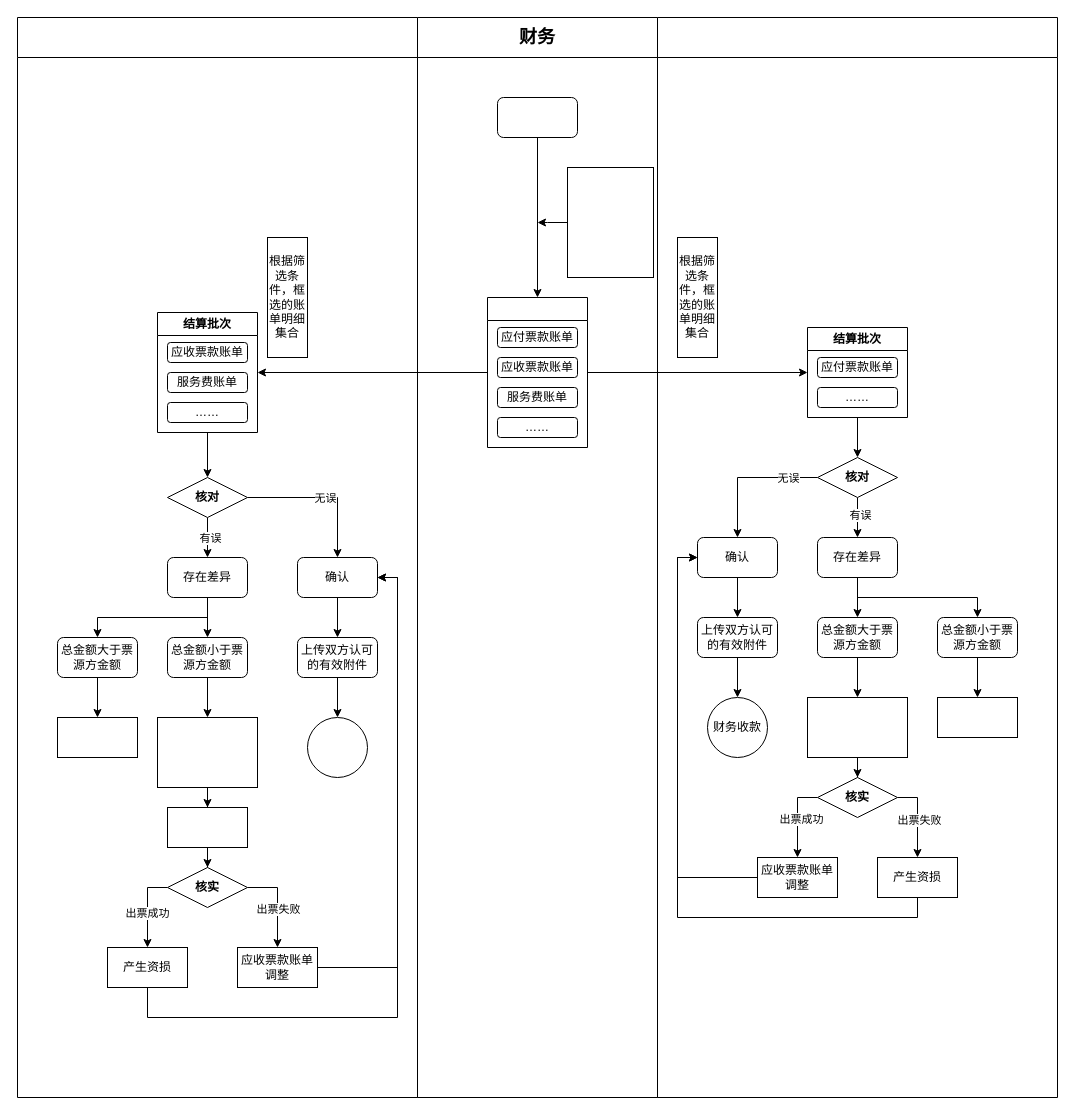
This 1075x1115 diagram has some shape labels left out. Each missing label, with the box of its shape:
在账单明细中进行特殊标记: (166, 806, 248, 848)
客服处理订单 票源方出票成功 云票库出票失败 分销方出票失败: (156, 716, 258, 788)
应付方: (656, 16, 1058, 1098)
应收方: (16, 16, 418, 1098)
票源方出票成功 云票库出票成功 分销方出票失败: (806, 696, 908, 758)
订单信息: (496, 96, 578, 138)
订单生成账单规则： 根据业务配置 （1）应收票款 （2）应收票款 （3）服务费 （4）……: (566, 166, 654, 278)
财务打款: (306, 716, 368, 778)
账单明细: (486, 296, 588, 448)
